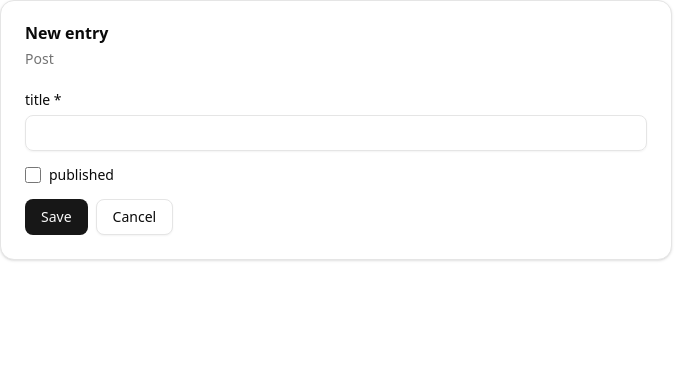
Scenario: shows validation errors from the API
Type "Hello" into the field labelled "title *" at (336, 133), box [25, 115, 647, 151]
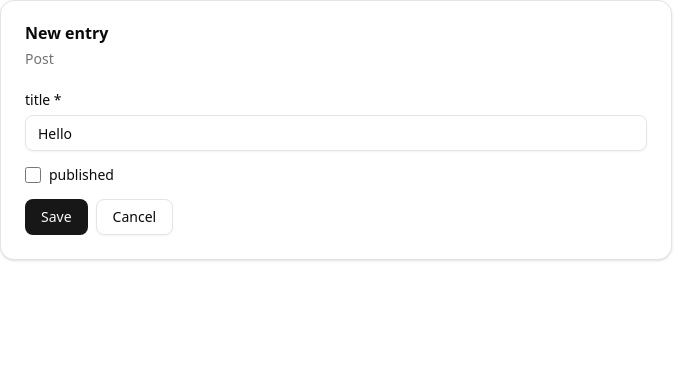
Click the button "Save" at (56, 217), box [25, 199, 88, 235]
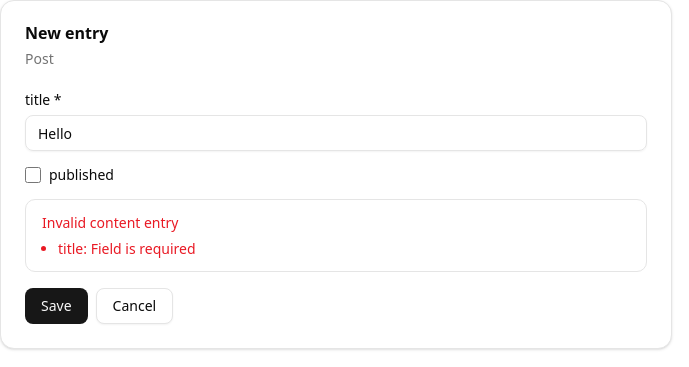
Check: the list item "title: Field is required" is shown, box [58, 239, 196, 259]
